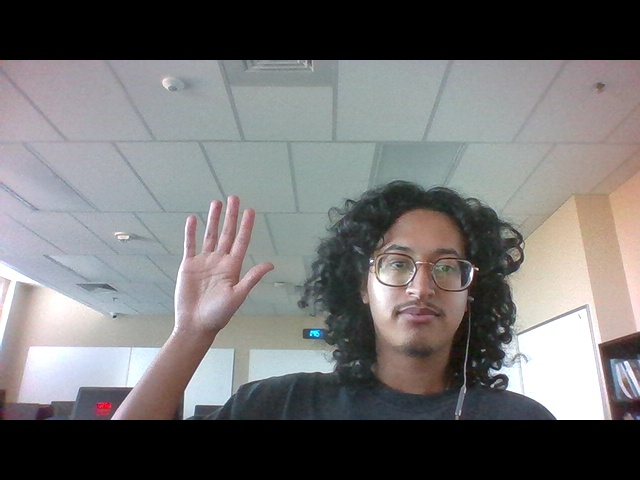hello: (170, 188, 280, 340)
